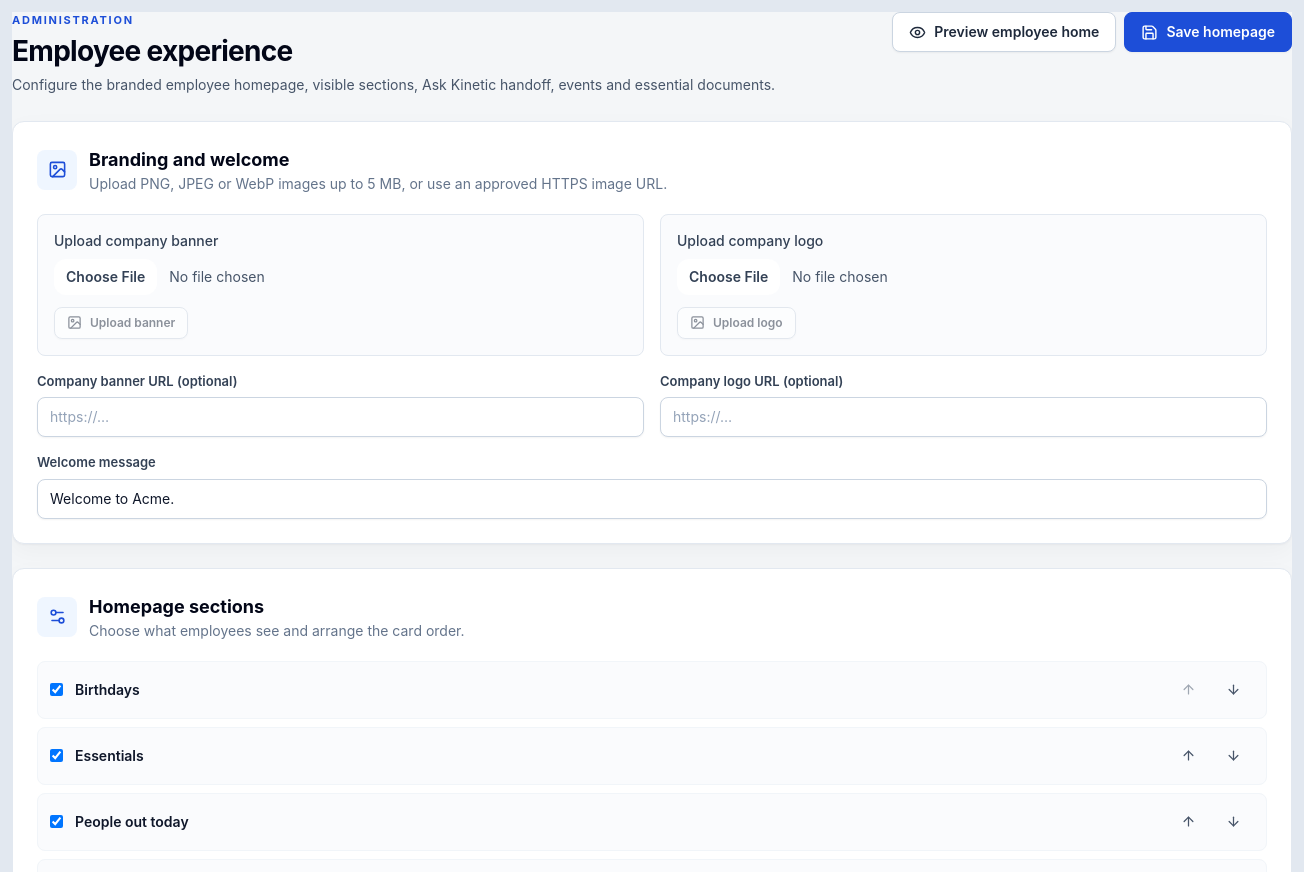
Test: renders structured homepage validation errors without crashing
The image size is (1304, 872).
Check: the heading "Branding and welcome" is shown, box [89,148,289,170]
Click the button "Save homepage" at (1208, 32), box [1124,12,1292,52]
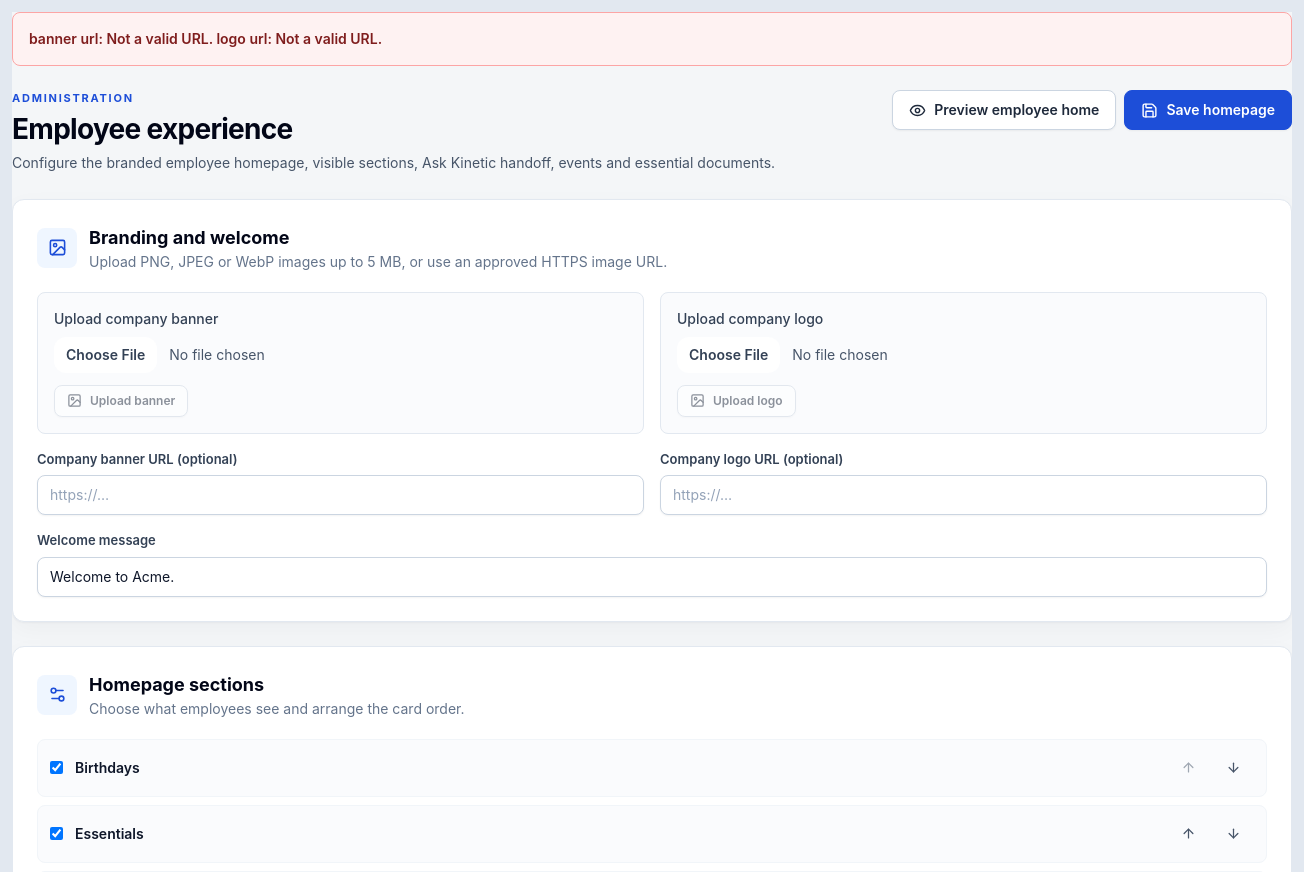
Check: the text "banner url: Not a valid URL. logo url: Not a valid URL." is shown, box [29,30,382,47]
